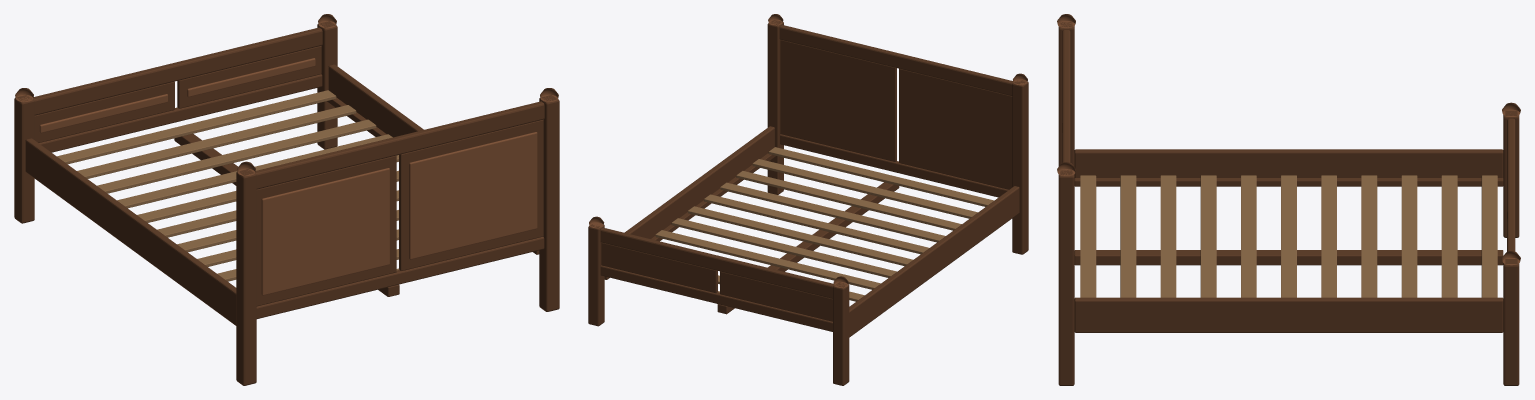
The model's file is GiuongDoi.glb.
The picture shows the model from 3 angles, left to right: view 1: azimuth 30°, elevation 25°; view 2: azimuth 150°, elevation 25°; view 3: azimuth 270°, elevation 25°; orthographic projection. The views are drawn at different scales.
Visible parts, largest first — view 1: geometry_0; view 2: geometry_0; view 3: geometry_0.
Boxes of the visible parts, x1=… form: geometry_0: x1=14, y1=14, x2=559, y2=385; geometry_0: x1=588, y1=14, x2=1028, y2=385; geometry_0: x1=1057, y1=14, x2=1520, y2=385.
Bounding box in the file's own units: 1.62 × 1.07 × 2.04.
